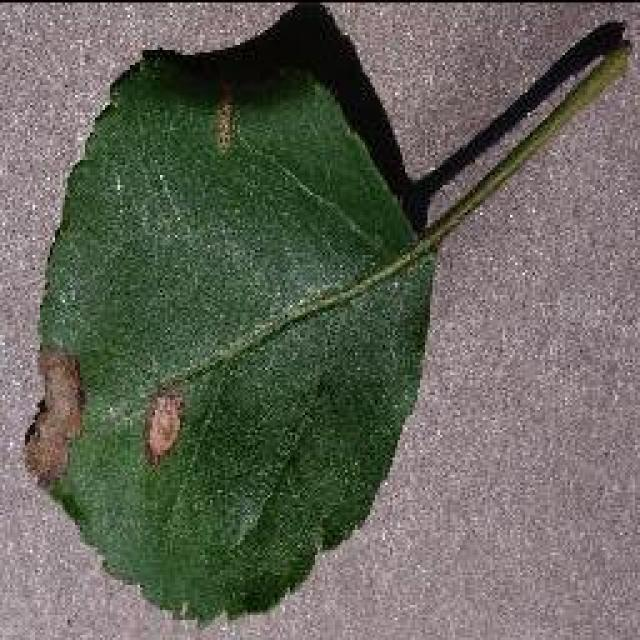Black_rot: (20, 2, 632, 628)
